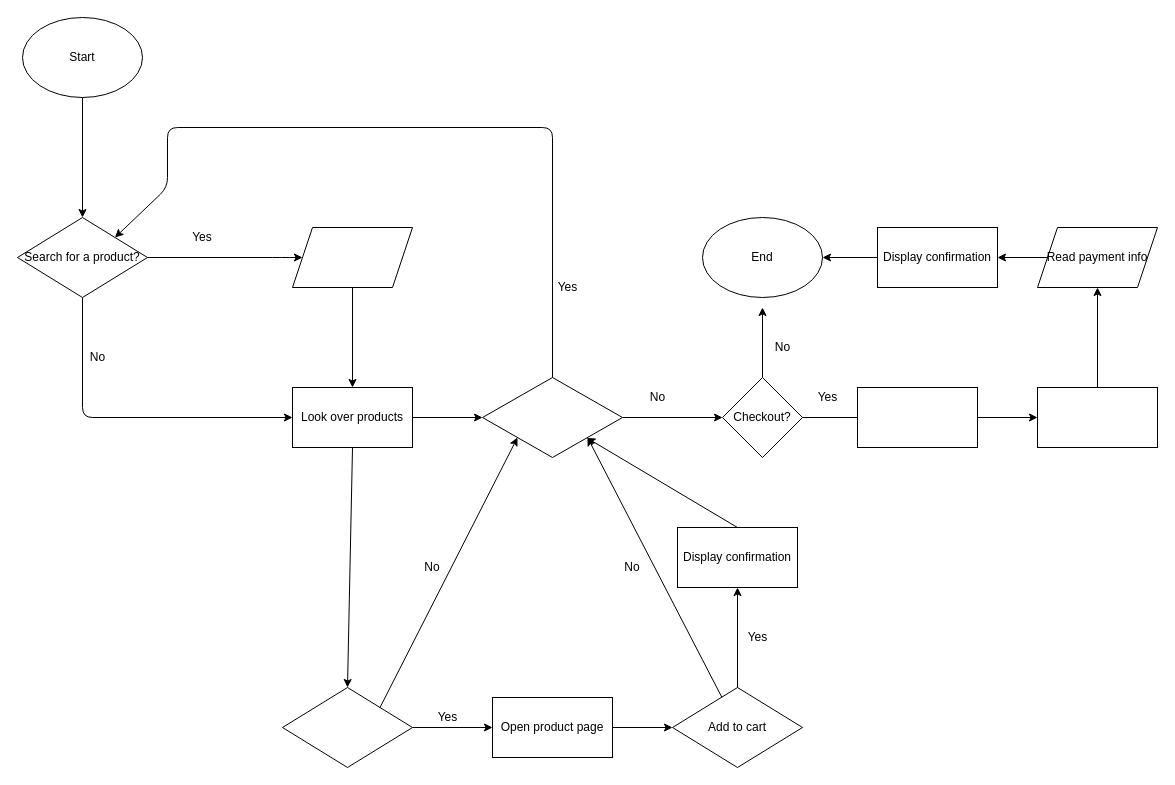
The diagram is 1175 pixels wide and 785 high, and some of its shapes have lost their labels. Each missing label, with the centre of its shape:
"Continue shopping?" goes at (x=552, y=417).
"Display cart" goes at (x=917, y=417).
"Record input" goes at (x=352, y=257).
"View payment" goes at (x=1097, y=417).
"View specific product?" goes at (x=347, y=727).
